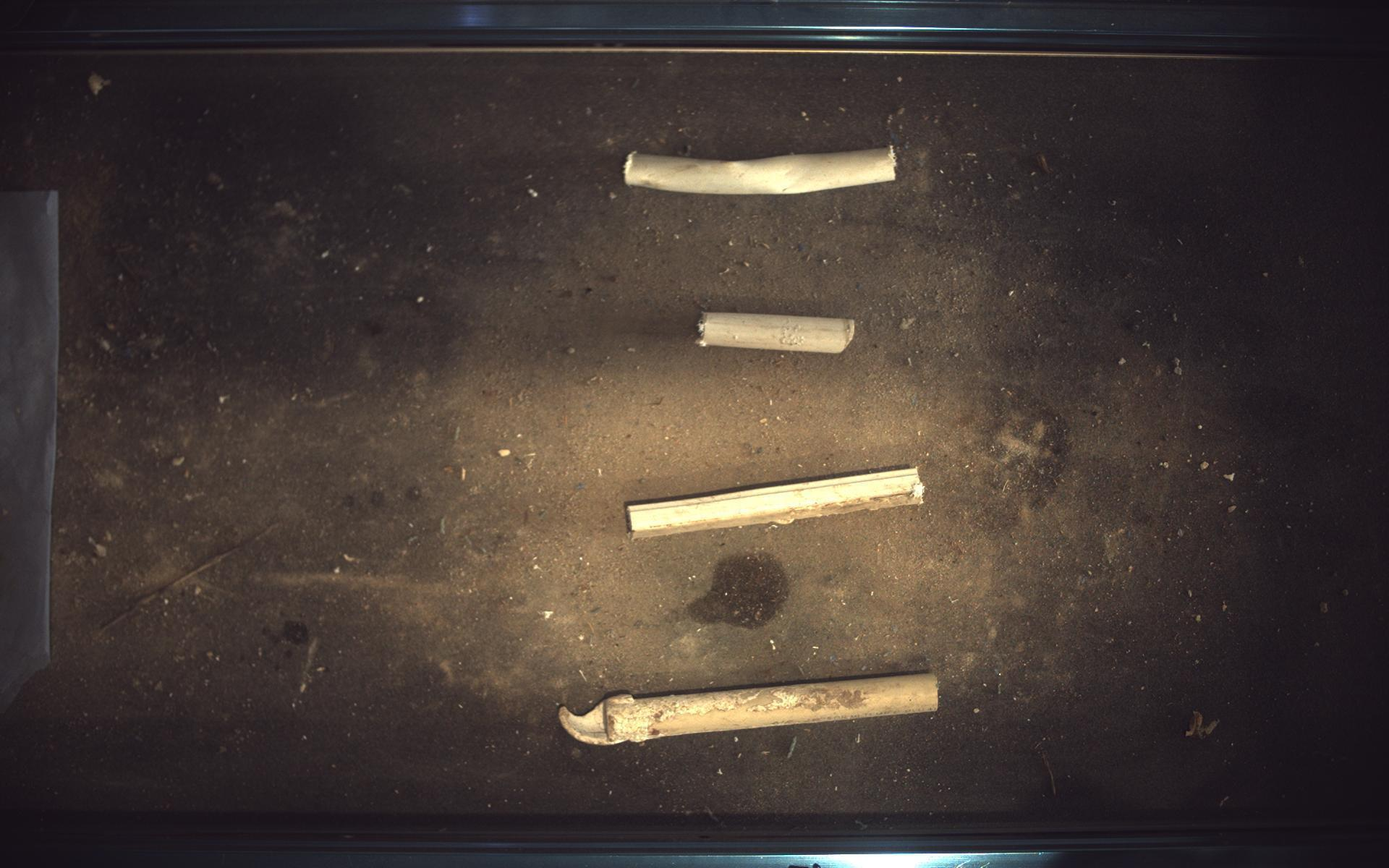pipes: (560, 674, 940, 746), (625, 146, 898, 194), (699, 311, 857, 353)
plastic: (627, 468, 926, 539)
